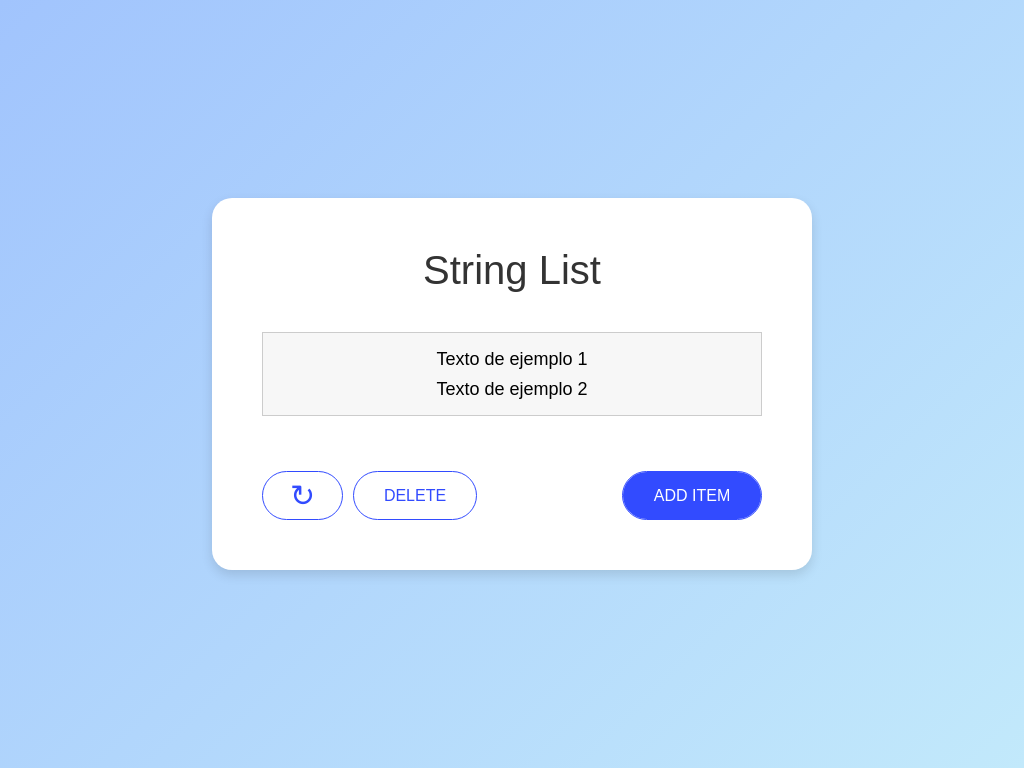
App › delete an item from the list
The image size is (1024, 768).
Click the list item "Texto de ejemplo 2" at (512, 389), box left=274, top=374, right=750, bottom=404
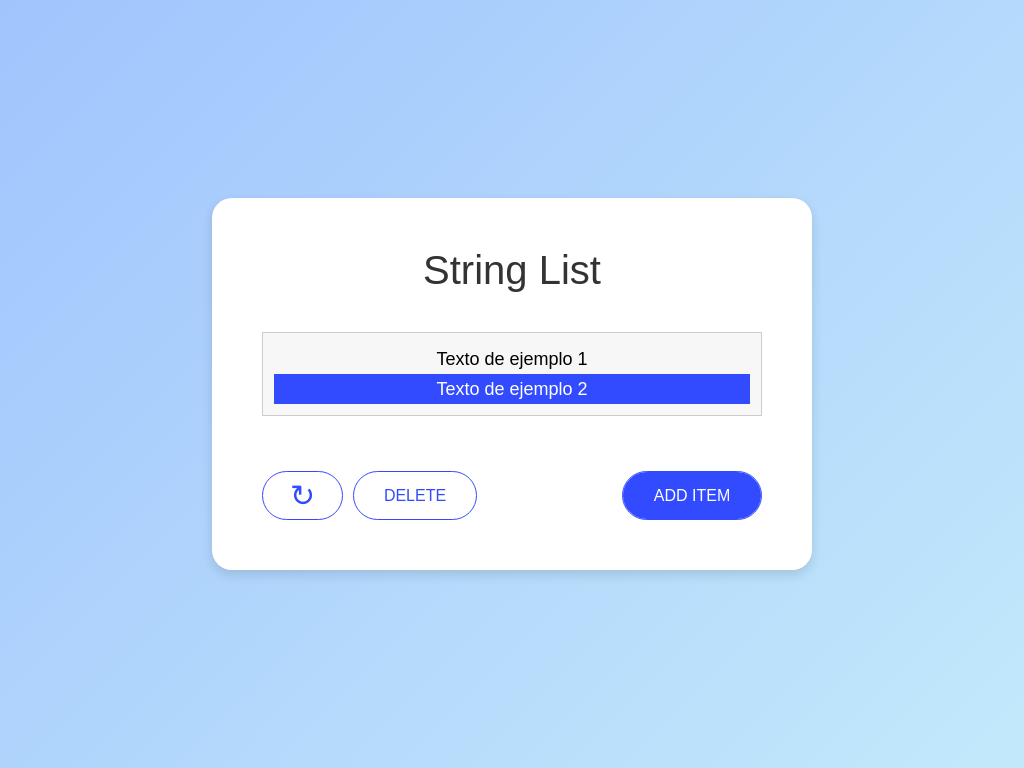
Click the button "Delete" at (415, 496), box left=353, top=471, right=477, bottom=520
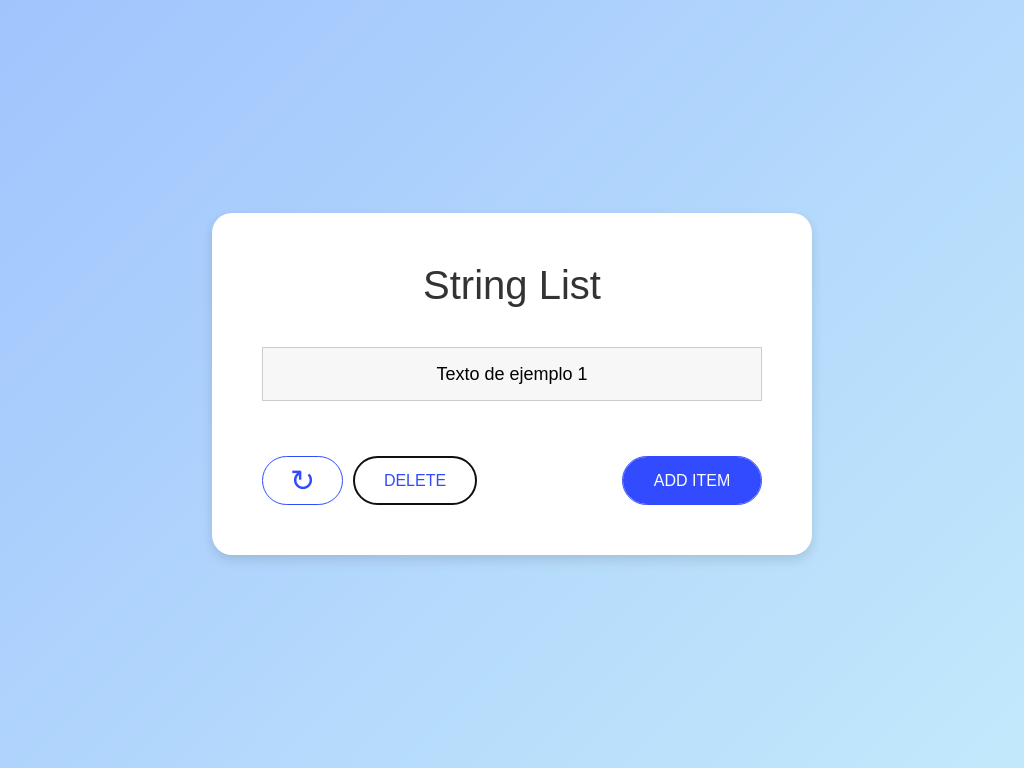
Now the list item "Texto de ejemplo 2" is gone
